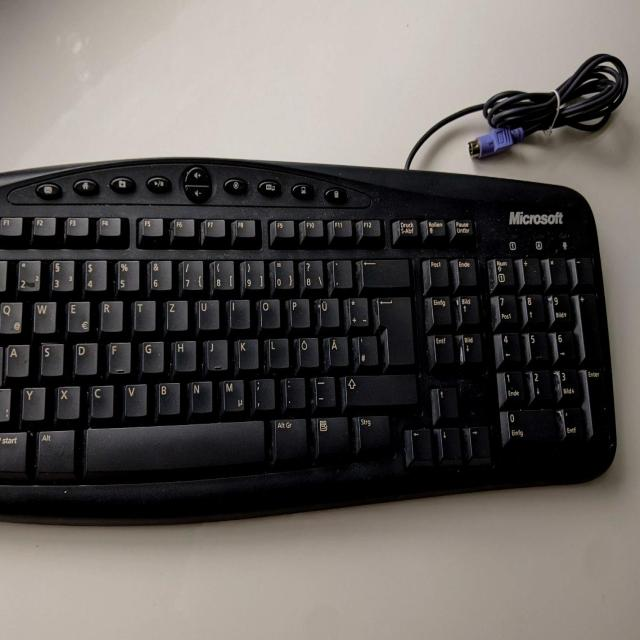0: (268, 256, 293, 290)
1: (0, 257, 13, 292)
2: (15, 257, 41, 292)
3: (48, 256, 73, 291)
4: (80, 256, 106, 290)
5: (113, 256, 139, 290)
6: (145, 256, 171, 289)
7: (178, 257, 203, 290)
8: (208, 256, 233, 290)
9: (238, 256, 263, 290)
a: (4, 340, 29, 376)
accent: (325, 257, 351, 289)
ae: (325, 333, 348, 365)
alt-left: (33, 426, 74, 474)
altgr-right: (268, 414, 306, 460)
b: (153, 378, 180, 414)
c: (86, 381, 113, 417)
caret: (0, 257, 13, 292)
comma: (249, 375, 274, 410)
d: (71, 339, 97, 374)
del: (357, 255, 409, 287)
e: (64, 297, 89, 332)
enter: (371, 292, 414, 365)
f: (105, 338, 130, 372)
g: (138, 337, 163, 371)
h: (170, 337, 195, 370)
hash: (352, 332, 377, 366)
i: (225, 295, 249, 328)
j: (202, 336, 227, 370)
k: (233, 335, 258, 368)
keyboard: (0, 152, 626, 518)
l: (264, 334, 288, 367)
less: (0, 385, 14, 422)
m: (218, 376, 244, 411)
minus: (310, 373, 335, 407)
n: (187, 378, 212, 413)
o: (256, 295, 279, 327)
oe: (293, 333, 318, 366)
p: (285, 294, 309, 327)
plus: (342, 294, 368, 326)
point: (280, 373, 305, 407)
q: (0, 299, 22, 334)
r: (97, 297, 122, 330)
s: (37, 339, 62, 375)
shift-left: (0, 386, 17, 422)
shift-lock: (0, 342, 22, 378)
shift-right: (339, 371, 417, 405)
space: (82, 417, 264, 472)
ss: (297, 256, 323, 289)
strg-left: (0, 430, 20, 470)
strg-right: (352, 411, 391, 452)
t: (130, 296, 155, 330)
tab: (0, 299, 21, 334)
u: (194, 296, 219, 329)
ue: (313, 294, 338, 327)
v: (121, 380, 146, 416)
w: (30, 297, 55, 333)
x: (53, 382, 79, 417)
y: (18, 383, 44, 419)
z: (163, 297, 187, 330)
